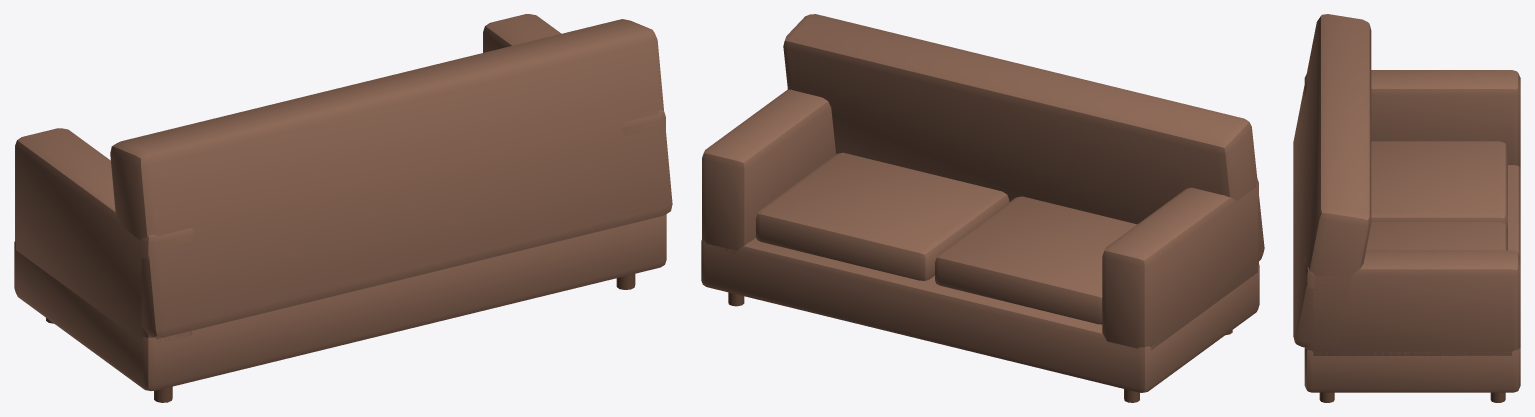
Rendered from hotel_sofa.glb.
The picture shows the model from 3 angles, left to right: view 1: azimuth 30°, elevation 25°; view 2: azimuth 150°, elevation 25°; view 3: azimuth 270°, elevation 25°; orthographic projection. The views are drawn at different scales.
Parts seen in each view (by area): view 1: HotelSofa_Mesh; view 2: HotelSofa_Mesh; view 3: HotelSofa_Mesh.
Boxes of the visible parts, box(x1,y1,x2,y2) form: HotelSofa_Mesh: box(14, 14, 672, 402); HotelSofa_Mesh: box(701, 14, 1264, 402); HotelSofa_Mesh: box(1293, 14, 1520, 402).
Bounding box in the file's own units: 1.9 × 0.8774 × 0.9052.
